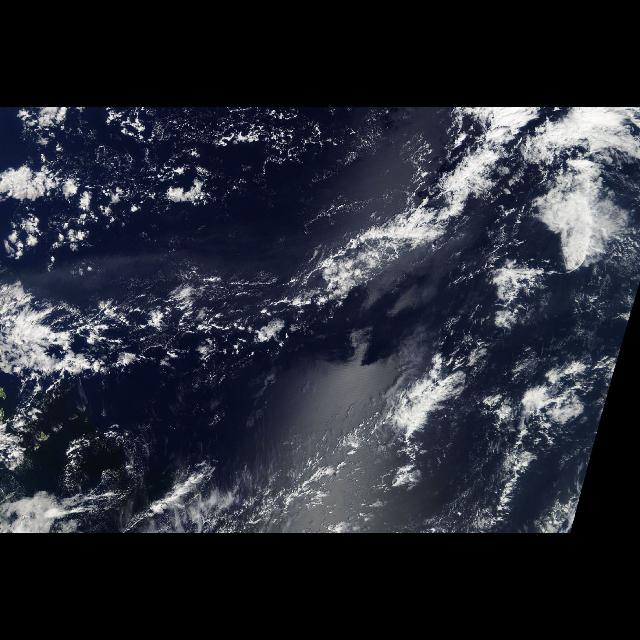Gravel: (2, 255, 296, 378), (63, 108, 315, 232)
Sugar: (0, 172, 478, 378)
